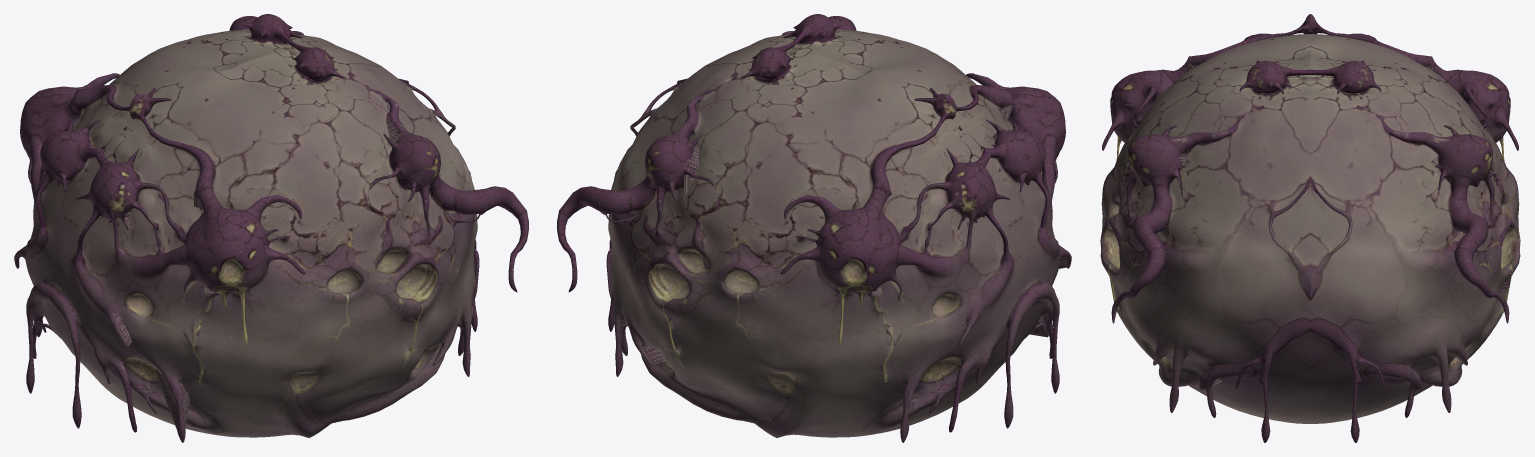
The model's file is Planet D.fbx.
The picture shows the model from 3 angles, left to right: view 1: azimuth 30°, elevation 25°; view 2: azimuth 150°, elevation 25°; view 3: azimuth 270°, elevation 25°; orthographic projection. The views are drawn at different scales.
Visible parts, largest first — view 1: shard5, shard10, shard12, shard24, shard25, shard29; view 2: shard12, shard25, shard10, shard28, shard24, shard29, shard5; view 3: shard29, shard12, shard5, shard28, shard25, shard24.
Boxes of the visible parts, <box> form: shard5: <box>109,104,528,442</box>; shard10: <box>14,90,200,442</box>; shard12: <box>42,14,447,154</box>; shard24: <box>72,77,263,209</box>; shard25: <box>31,227,341,437</box>; shard29: <box>394,75,479,355</box>; shard12: <box>659,14,917,320</box>; shard25: <box>612,269,1036,442</box>; shard10: <box>826,119,1071,428</box>; shard28: <box>557,93,772,331</box>; shard24: <box>868,50,1028,203</box>; shard29: <box>606,74,693,376</box>; shard5: <box>828,16,1065,336</box>; shard29: <box>1199,163,1511,442</box>; shard12: <box>1156,35,1519,216</box>; shard5: <box>1100,35,1250,412</box>; shard28: <box>1385,123,1520,323</box>; shard25: <box>1188,131,1509,423</box>; shard24: <box>1180,14,1447,74</box>.
Size of the model in its own units: 547 by 479 by 511.
